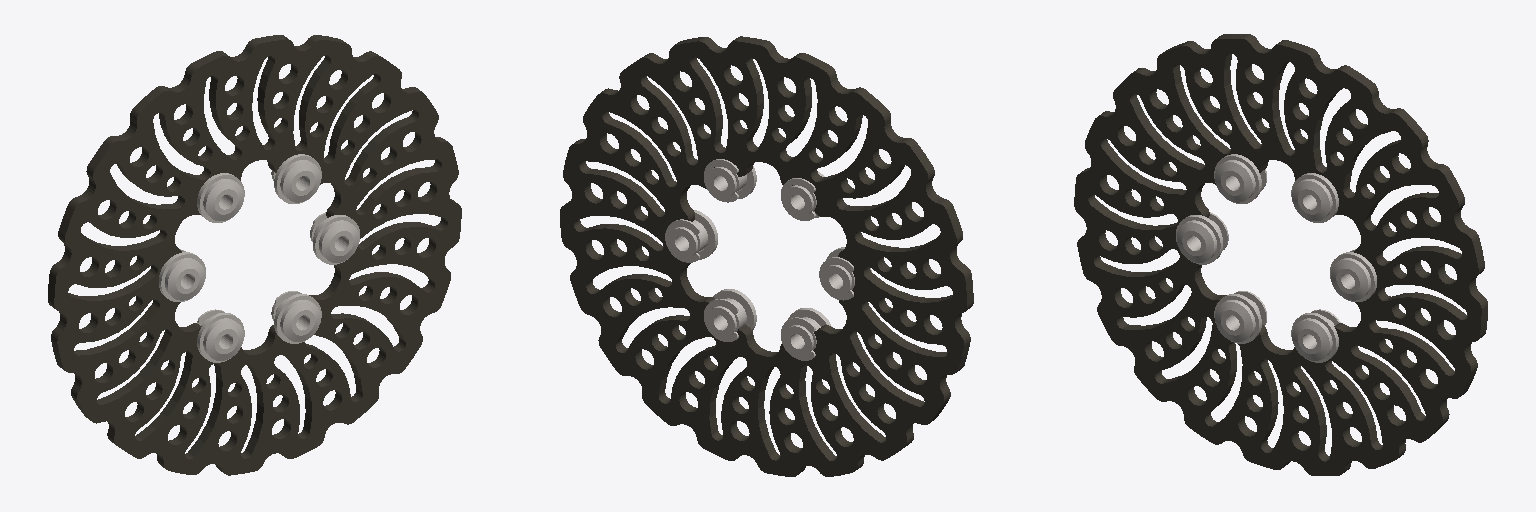
Rendered from breakdisk.obj.
3 views of the same model, side by side, from view 1: azimuth 30°, elevation 25°; view 2: azimuth 150°, elevation 25°; view 3: azimuth 330°, elevation 25° (orthographic).
Parts seen in each view (by area): view 1: Raiz|Brake_Disc_Assembly_(Default)|Default|Brake_Disc_MK11-1|san, Raiz|Brake_Disc_Assembly_(Default)|Default|Button-2|polished_ste, Raiz|Brake_Disc_Assembly_(Default)|Default|Button-1|polished_ste, Raiz|Brake_Disc_Assembly_(Default)|Default|Button-4|polished_ste, Raiz|Brake_Disc_Assembly_(Default)|Default|Button-6|polished_ste, Raiz|Brake_Disc_Assembly_(Default)|Default|Button-5|polished_ste, Raiz|Brake_Disc_Assembly_(Default)|Default|Button-3|polished_ste; view 2: Raiz|Brake_Disc_Assembly_(Default)|Default|Brake_Disc_MK11-1|san, Raiz|Brake_Disc_Assembly_(Default)|Default|Button-1|polished_ste, Raiz|Brake_Disc_Assembly_(Default)|Default|Button-2|polished_ste, Raiz|Brake_Disc_Assembly_(Default)|Default|Button-4|polished_ste, Raiz|Brake_Disc_Assembly_(Default)|Default|Button-6|polished_ste, Raiz|Brake_Disc_Assembly_(Default)|Default|Button-3|polished_ste, Raiz|Brake_Disc_Assembly_(Default)|Default|Button-5|polished_ste, Raiz|Brake_Disc_Assembly_(Default)|Default|Button_Washer-2|carbo, Raiz|Brake_Disc_Assembly_(Default)|Default|Button_Washer-1|carbo; view 3: Raiz|Brake_Disc_Assembly_(Default)|Default|Brake_Disc_MK11-1|san, Raiz|Brake_Disc_Assembly_(Default)|Default|Button-6|polished_ste, Raiz|Brake_Disc_Assembly_(Default)|Default|Button-2|polished_ste, Raiz|Brake_Disc_Assembly_(Default)|Default|Button-5|polished_ste, Raiz|Brake_Disc_Assembly_(Default)|Default|Button-3|polished_ste, Raiz|Brake_Disc_Assembly_(Default)|Default|Button-1|polished_ste, Raiz|Brake_Disc_Assembly_(Default)|Default|Button-4|polished_ste.
Part boxes in pixels (x1,y1,x2,y2): Raiz|Brake_Disc_Assembly_(Default)|Default|Brake_Disc_MK11-1|san: (48,35,461,475); Raiz|Brake_Disc_Assembly_(Default)|Default|Button-2|polished_ste: (271,300,320,341); Raiz|Brake_Disc_Assembly_(Default)|Default|Button-1|polished_ste: (310,220,359,262); Raiz|Brake_Disc_Assembly_(Default)|Default|Button-4|polished_ste: (271,160,320,202); Raiz|Brake_Disc_Assembly_(Default)|Default|Button-6|polished_ste: (197,318,243,360); Raiz|Brake_Disc_Assembly_(Default)|Default|Button-5|polished_ste: (165,258,204,300); Raiz|Brake_Disc_Assembly_(Default)|Default|Button-3|polished_ste: (203,179,243,220); Raiz|Brake_Disc_Assembly_(Default)|Default|Brake_Disc_MK11-1|san: (560,36,973,476); Raiz|Brake_Disc_Assembly_(Default)|Default|Button-1|polished_ste: (668,219,713,258); Raiz|Brake_Disc_Assembly_(Default)|Default|Button-2|polished_ste: (706,298,754,337); Raiz|Brake_Disc_Assembly_(Default)|Default|Button-4|polished_ste: (706,166,746,198); Raiz|Brake_Disc_Assembly_(Default)|Default|Button-6|polished_ste: (783,317,828,356); Raiz|Brake_Disc_Assembly_(Default)|Default|Button-3|polished_ste: (783,184,816,216); Raiz|Brake_Disc_Assembly_(Default)|Default|Button-5|polished_ste: (822,264,854,296); Raiz|Brake_Disc_Assembly_(Default)|Default|Button_Washer-2|carbo: (713,289,756,330); Raiz|Brake_Disc_Assembly_(Default)|Default|Button_Washer-1|carbo: (694,210,717,259); Raiz|Brake_Disc_Assembly_(Default)|Default|Brake_Disc_MK11-1|san: (1074,34,1487,475); Raiz|Brake_Disc_Assembly_(Default)|Default|Button-6|polished_ste: (1215,298,1259,341); Raiz|Brake_Disc_Assembly_(Default)|Default|Button-2|polished_ste: (1292,318,1334,360); Raiz|Brake_Disc_Assembly_(Default)|Default|Button-5|polished_ste: (1177,220,1221,262); Raiz|Brake_Disc_Assembly_(Default)|Default|Button-3|polished_ste: (1215,160,1255,202); Raiz|Brake_Disc_Assembly_(Default)|Default|Button-1|polished_ste: (1331,258,1370,300); Raiz|Brake_Disc_Assembly_(Default)|Default|Button-4|polished_ste: (1292,179,1332,220).
Size of the model in its own units: 0.172 by 0.172 by 0.013.